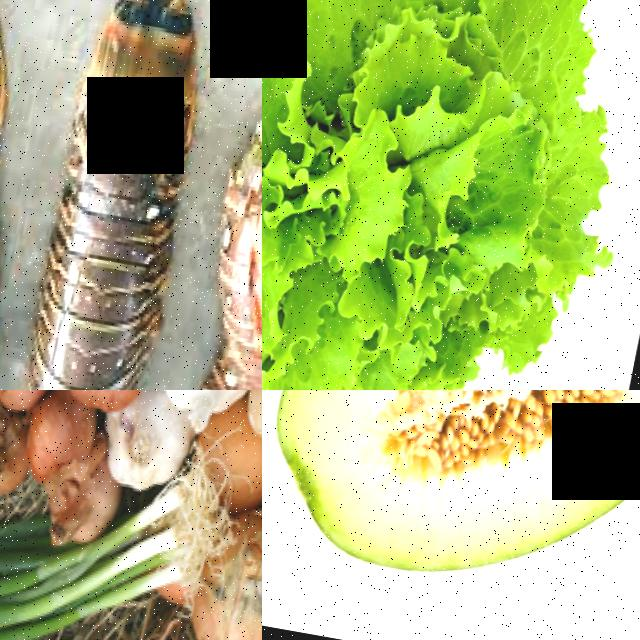lettuce: (262, 0, 640, 390)
lobster tails: (9, 0, 227, 390), (0, 0, 59, 390), (172, 215, 262, 390)
melon: (262, 390, 640, 625)
onion: (188, 507, 262, 640), (23, 390, 106, 493), (64, 390, 153, 415), (0, 390, 60, 417)
